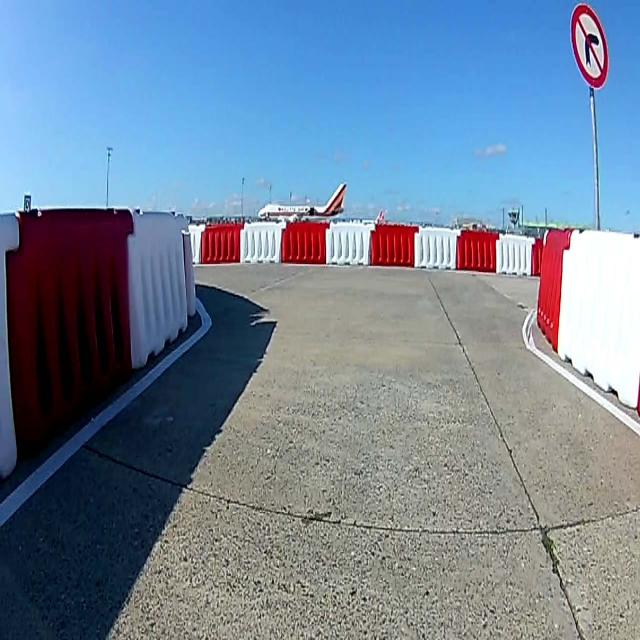sagadonulmez: (571, 5, 608, 88)
